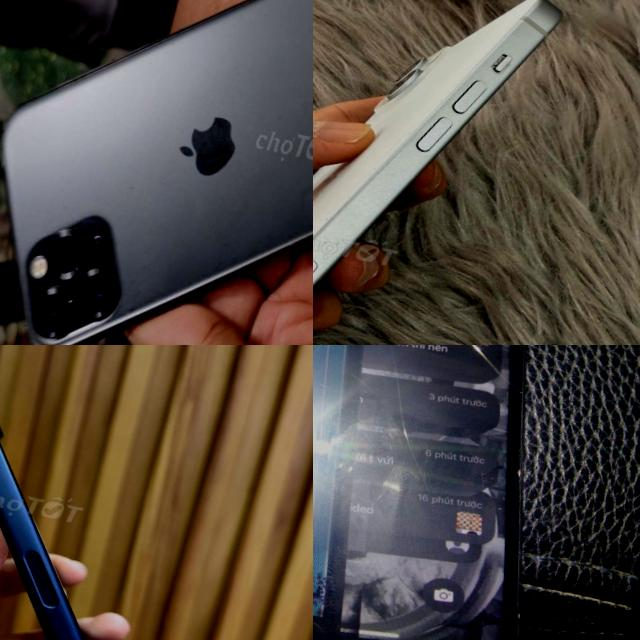gen_11: (1, 0, 313, 345)
gen_12_13: (313, 345, 620, 640)
gen_15: (313, 0, 588, 345)
gen_17: (0, 345, 222, 640)
